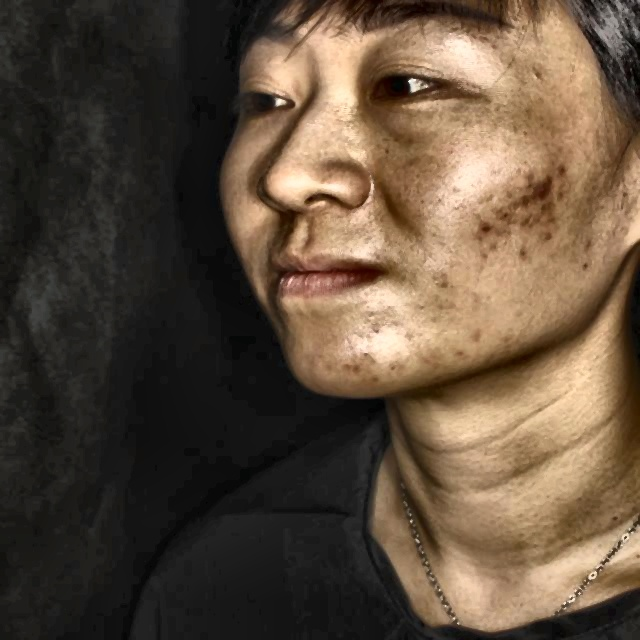pustule: (470, 212, 511, 248), (533, 212, 560, 242), (443, 336, 467, 360), (526, 178, 550, 202), (540, 161, 566, 183), (506, 186, 527, 208), (464, 325, 492, 340), (577, 230, 596, 247)
